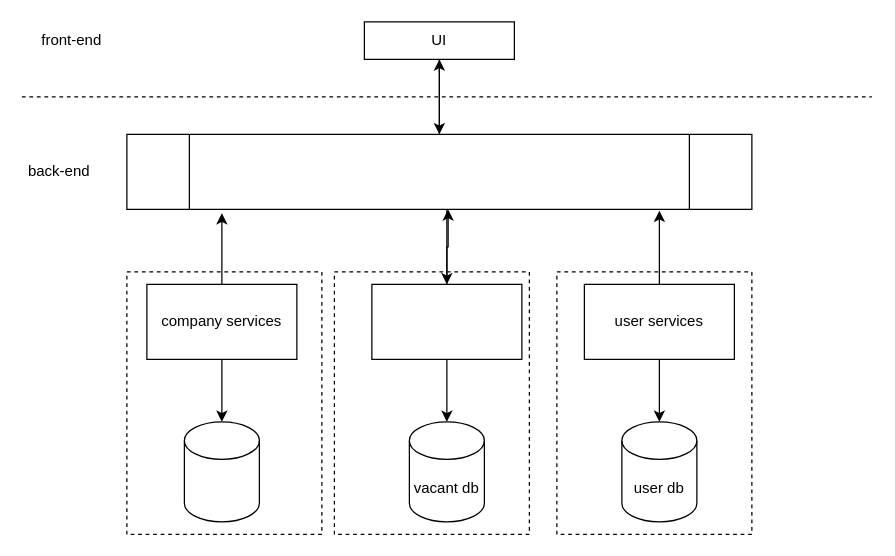
This 895x556 diagram has some shape labels left out. Each missing label, with the centre of its shape:
"BFF" goes at (439,171).
"company db" goes at (221,471).
"vacant services" goes at (446,321).
